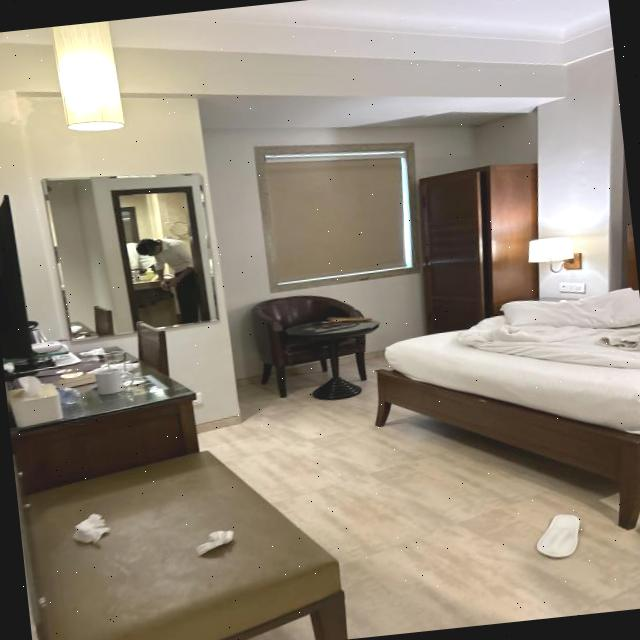chair: (246, 284, 368, 403)
lamp: (524, 234, 584, 282)
mess: (480, 284, 637, 376), (495, 506, 640, 577), (72, 504, 113, 548), (197, 530, 239, 559)
messy_bed: (373, 223, 640, 532)
organized table: (289, 313, 380, 406)
